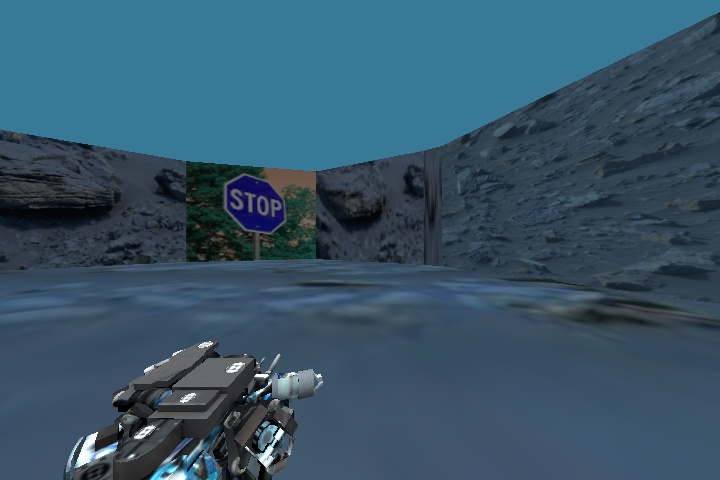stop_sign: (214, 162, 297, 239)
